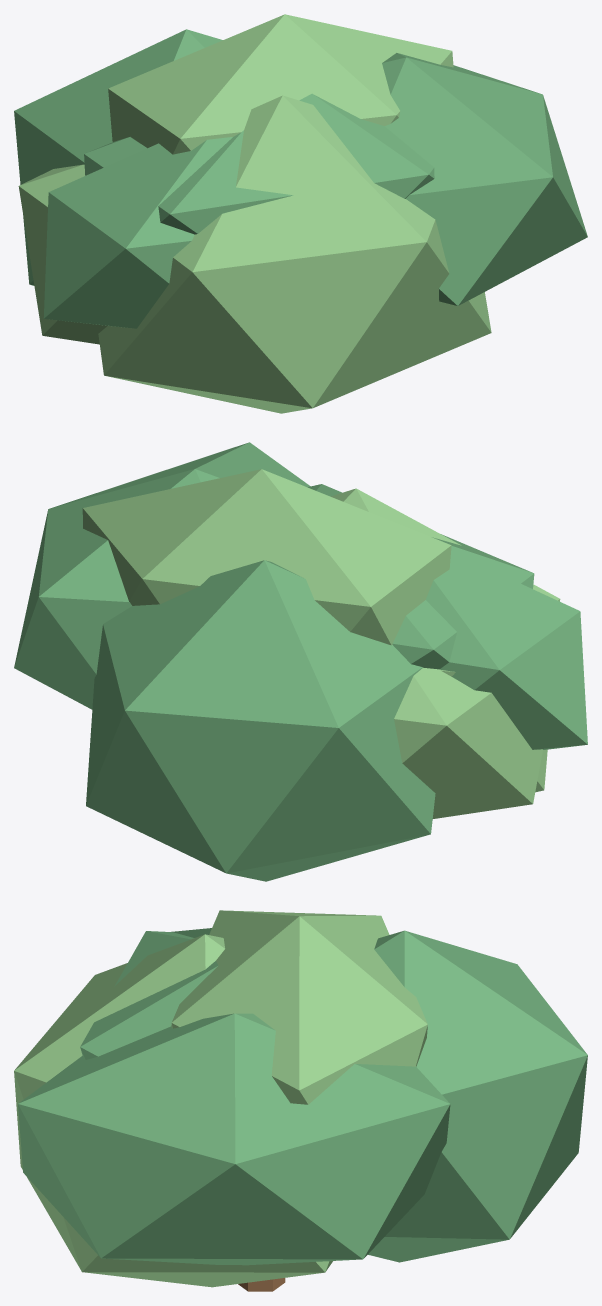
File: bush_04.glb
3 renders of one model, top to bottom at view 1: azimuth 30°, elevation 25°; view 2: azimuth 150°, elevation 25°; view 3: azimuth 270°, elevation 25°, orthographic. The views are drawn at different scales.
Visible parts, largest first — view 1: bush_04; view 2: bush_04; view 3: bush_04.
Part boxes in pixels (box(x1,y1,x2,y2)): bush_04: box(14, 14, 587, 413); bush_04: box(14, 442, 587, 881); bush_04: box(14, 910, 587, 1291).
Bounding box in the file's own units: 1.41 × 0.9648 × 1.27.
